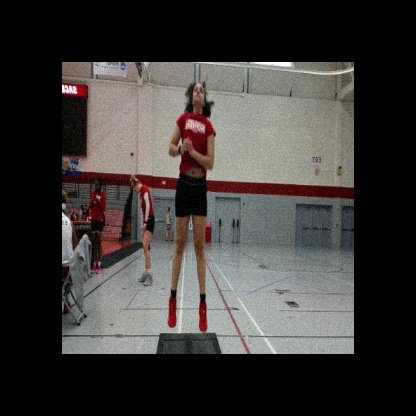lateral_flexion_right: (166, 79, 217, 333)
stance_width_normal: (166, 110, 217, 335)
